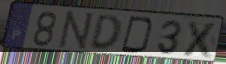3: (155, 19, 183, 56)
8: (32, 10, 58, 48)
D: (119, 15, 156, 56), (88, 14, 122, 53)
N: (56, 11, 96, 53)
X: (180, 19, 221, 60)
